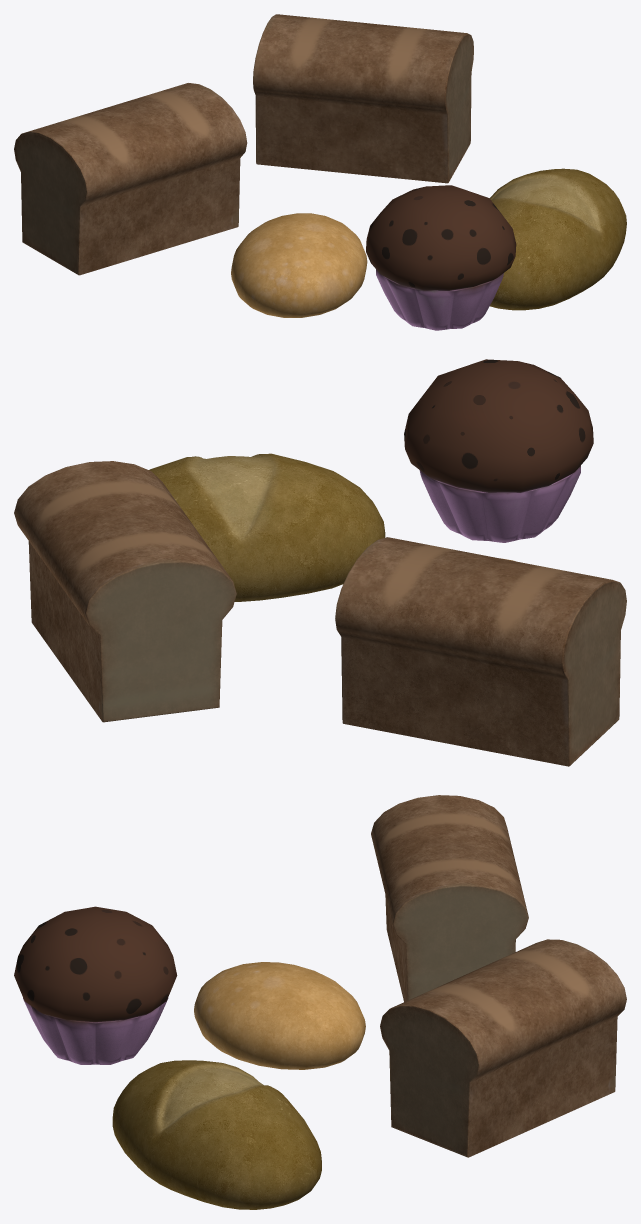
Rendered from Kitchen_foods_bread_muffin.fbx.
The picture shows the model from 3 angles, top to bottom: view 1: azimuth 30°, elevation 25°; view 2: azimuth 150°, elevation 25°; view 3: azimuth 270°, elevation 25°; orthographic projection. The views are drawn at different scales.
Parts seen in each view (by area): view 1: BreadLoaf, BreadLoaf1, Muffin1, SplitLoaf, LilLoaf; view 2: BreadLoaf, BreadLoaf1, Muffin1, SplitLoaf; view 3: BreadLoaf1, BreadLoaf, SplitLoaf, Muffin1, LilLoaf.
Boxes of the visible parts, x1,y1,x2,y2 form: BreadLoaf: (14, 83, 247, 275); BreadLoaf1: (253, 14, 473, 183); Muffin1: (366, 185, 516, 330); SplitLoaf: (489, 168, 626, 310); LilLoaf: (231, 213, 367, 317); BreadLoaf: (335, 537, 626, 766); BreadLoaf1: (14, 461, 236, 722); Muffin1: (404, 359, 593, 542); SplitLoaf: (149, 453, 385, 601); BreadLoaf1: (380, 939, 626, 1157); BreadLoaf: (371, 795, 528, 1001); SplitLoaf: (112, 1060, 321, 1209); Muffin1: (14, 906, 177, 1064); LilLoaf: (194, 962, 365, 1069).
Size of the model in its own units: 51.26 by 15.37 by 50.95.
